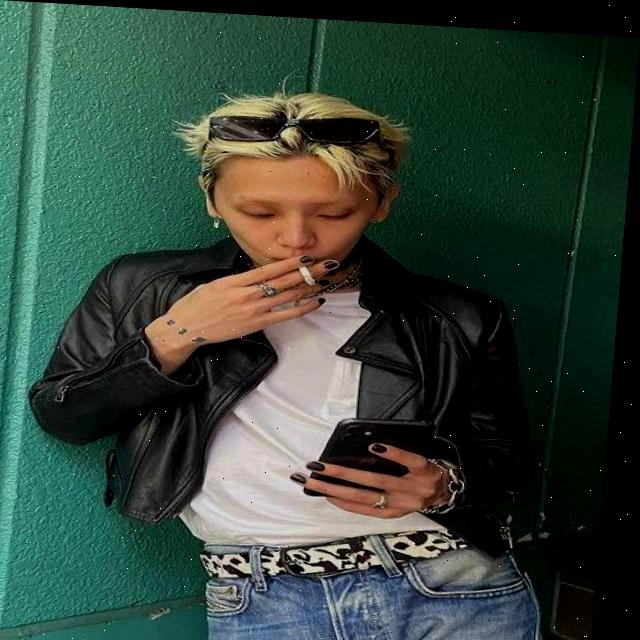cigarette: (304, 263, 321, 282)
